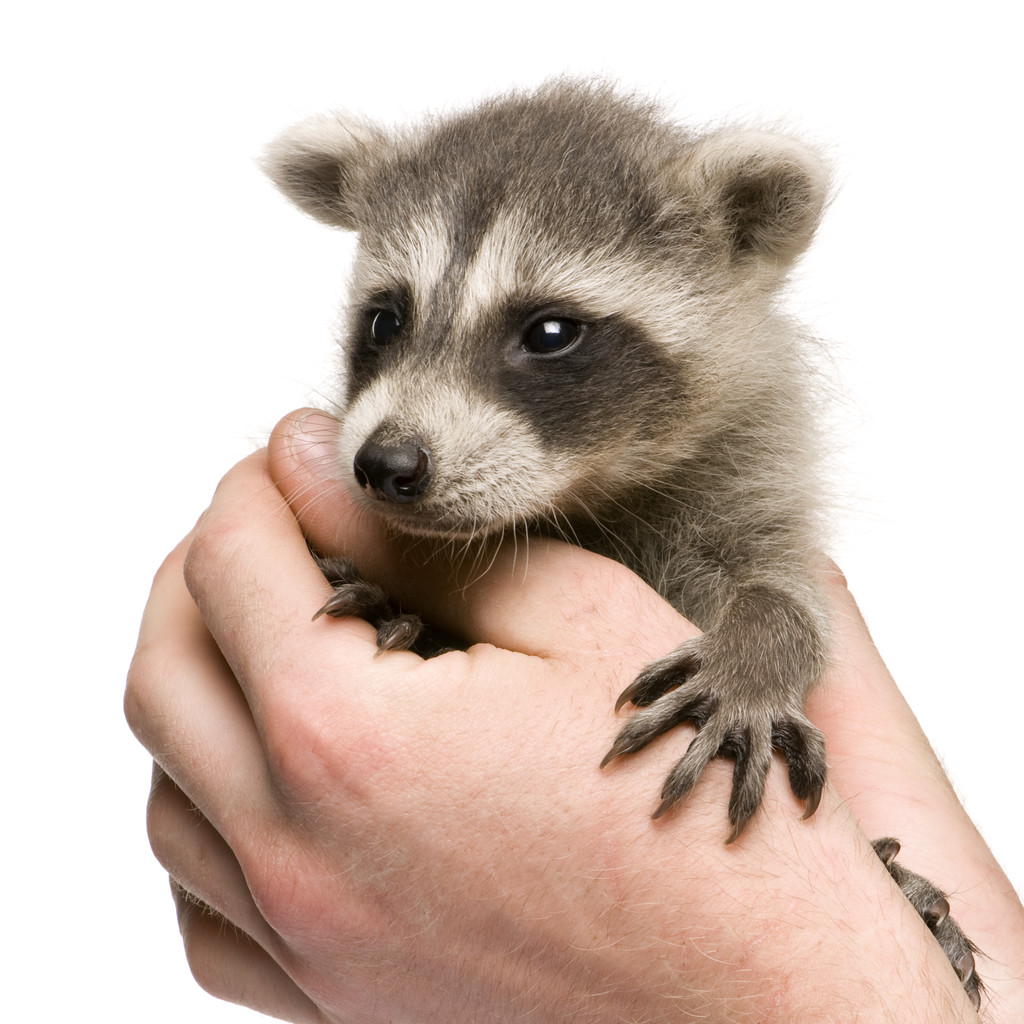raccoon: (258, 62, 1013, 1006)
